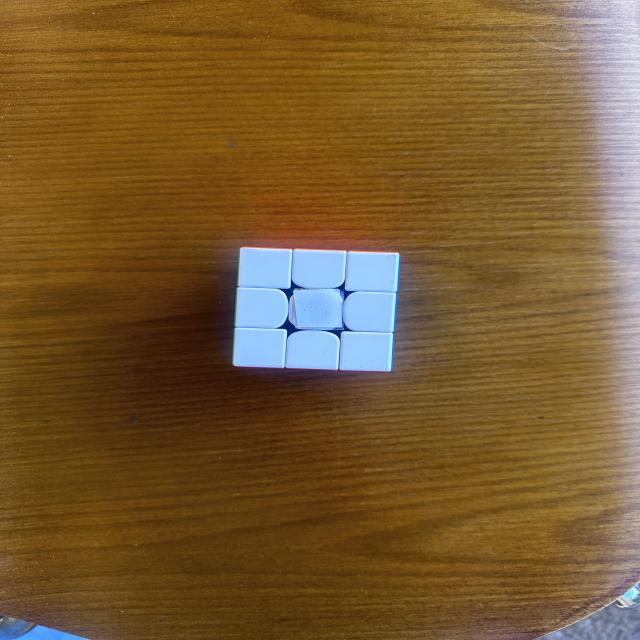sticker: (236, 245, 296, 292), (233, 286, 293, 332), (342, 249, 402, 295), (231, 324, 291, 370), (289, 248, 350, 292), (282, 328, 342, 372), (341, 290, 399, 334), (338, 330, 394, 373), (292, 288, 342, 328)
